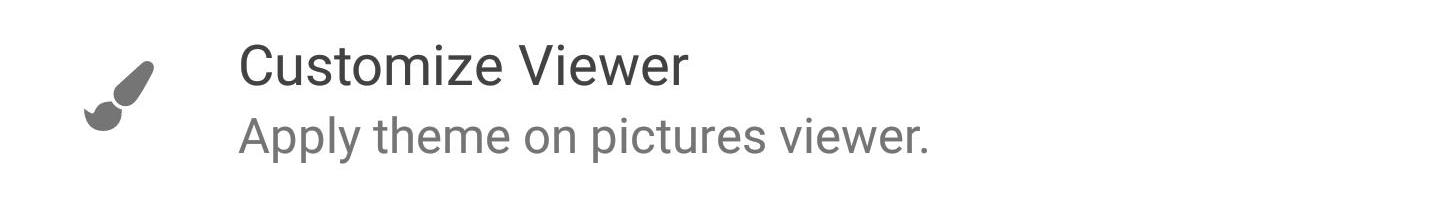CheckedTextView: (1, 1, 1439, 204)
